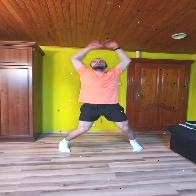jumping_jacks: (49, 31, 146, 166)
